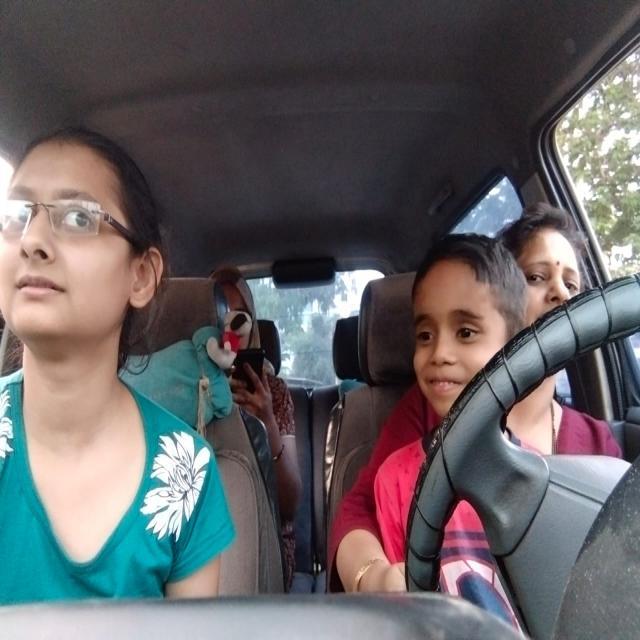child: (414, 228, 535, 422)
person: (2, 122, 166, 393), (499, 195, 610, 382), (215, 263, 265, 362)
